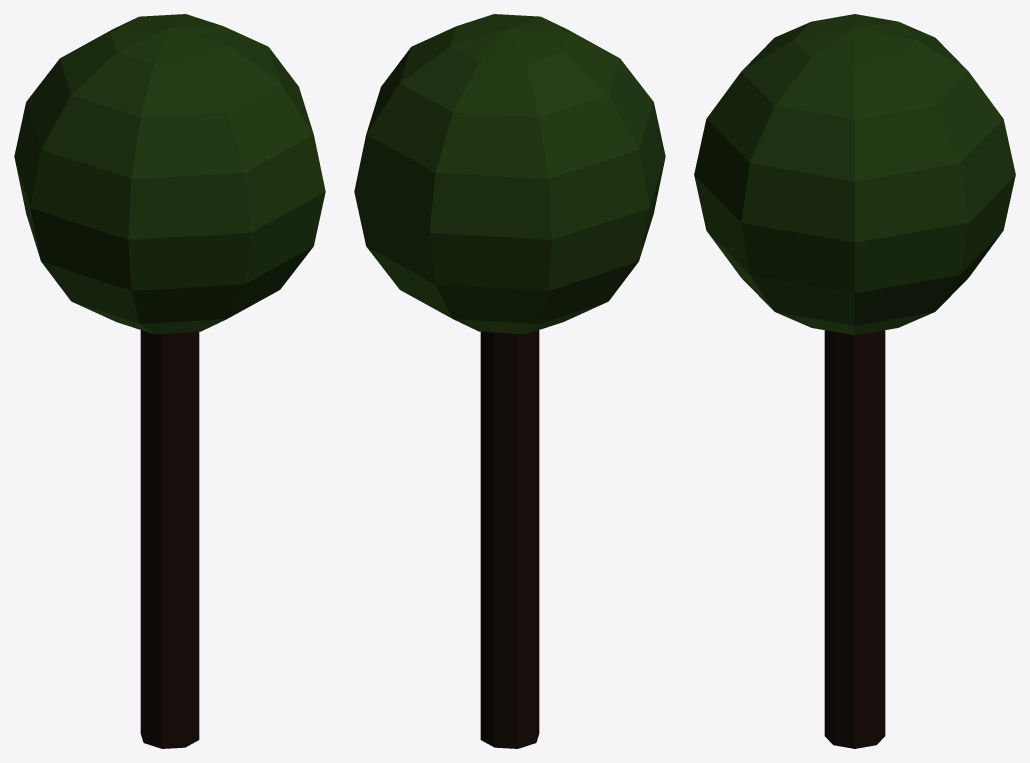
The model's file is Tree_v1.fbx.
3 views of the same model, side by side, from view 1: azimuth 30°, elevation 25°; view 2: azimuth 150°, elevation 25°; view 3: azimuth 270°, elevation 25° (orthographic).
Visible parts, largest first — view 1: Tree14; view 2: Tree14; view 3: Tree14.
Part boxes in pixels (x1,y1,x2,y2): Tree14: (14,14,325,748); Tree14: (354,14,665,748); Tree14: (694,14,1015,748).
Size of the model in its own units: 4.36 by 10.57 by 4.36.
